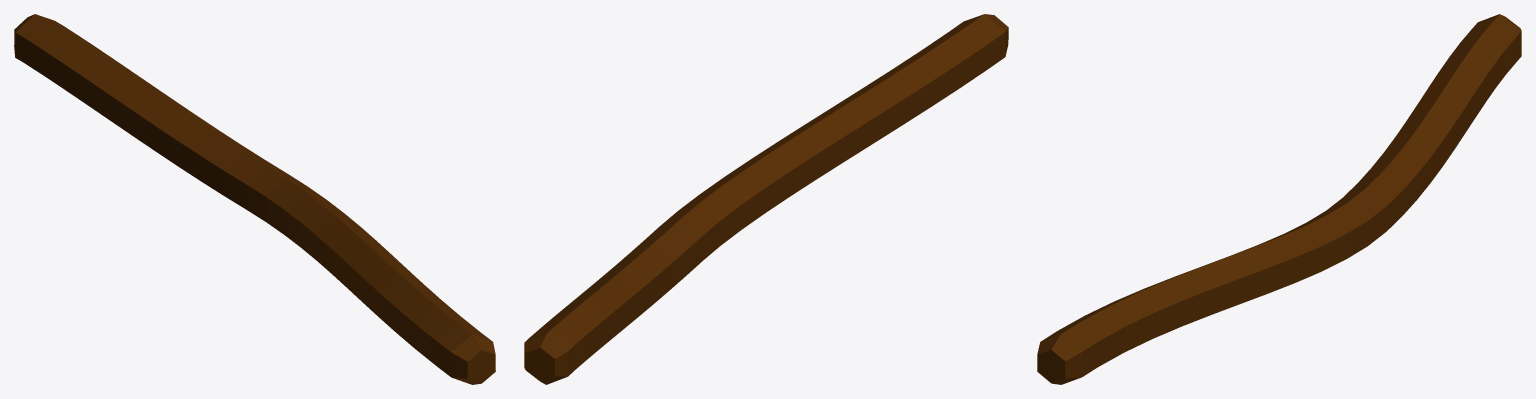
File: stick LOD0.fbx
The picture shows the model from 3 angles, left to right: view 1: azimuth 30°, elevation 25°; view 2: azimuth 150°, elevation 25°; view 3: azimuth 330°, elevation 25°; orthographic projection.
Parts seen in each view (by area): view 1: Палка LOD0; view 2: Палка LOD0; view 3: Палка LOD0.
Boxes of the visible parts, box(x1,y1,x2,y2) form: Палка LOD0: box(14, 14, 495, 384); Палка LOD0: box(524, 14, 1008, 384); Палка LOD0: box(1037, 14, 1521, 384).
Bounding box in the file's own units: 102 × 85.22 × 875.
